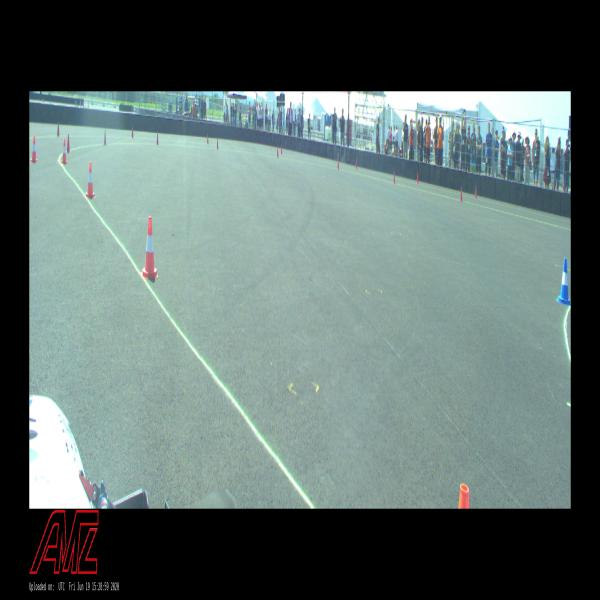blue_cone: (558, 259, 570, 305)
orange_cone: (140, 216, 158, 278), (86, 162, 95, 199), (30, 136, 38, 163), (61, 139, 68, 164)
unknown_cone: (67, 134, 70, 152)
